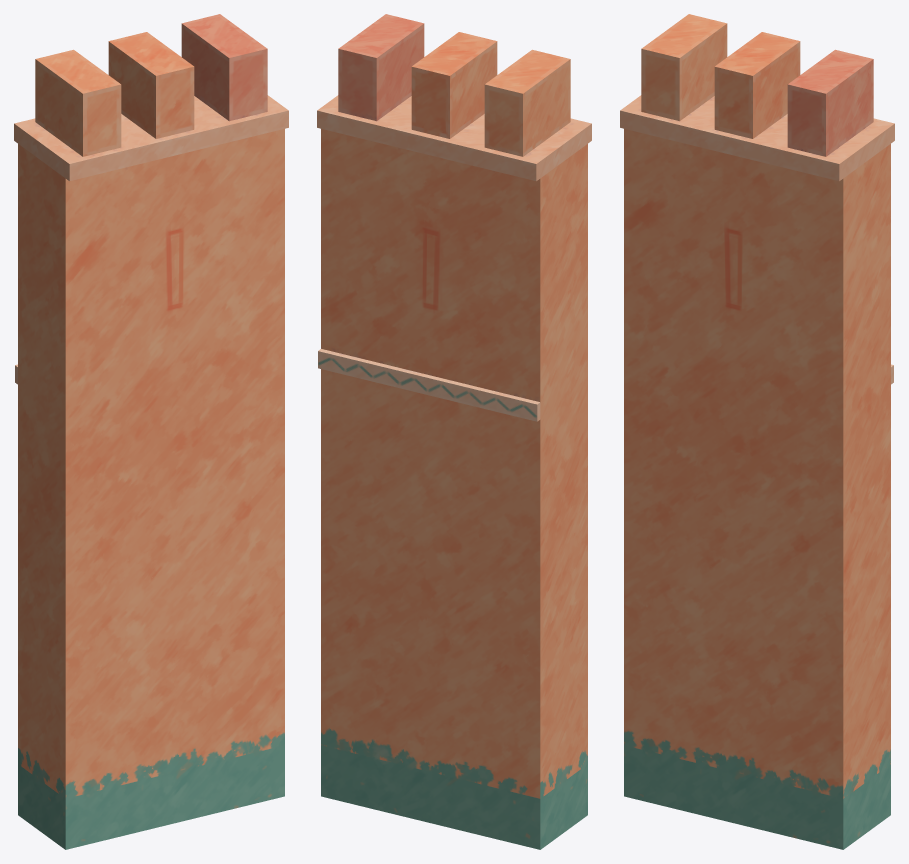
The model's file is townwall_low.fbx.
3 views of the same model, side by side, from view 1: azimuth 30°, elevation 25°; view 2: azimuth 150°, elevation 25°; view 3: azimuth 330°, elevation 25° (orthographic).
Visible parts, largest first — view 1: townwall; view 2: townwall; view 3: townwall.
Part boxes in pixels (x1,y1,x2,y2): townwall: (14, 14, 288, 849); townwall: (317, 14, 591, 849); townwall: (620, 14, 894, 849).
Bounding box in the file's own units: 8 × 26.2 × 3.5.
1 material, 1 textured.
